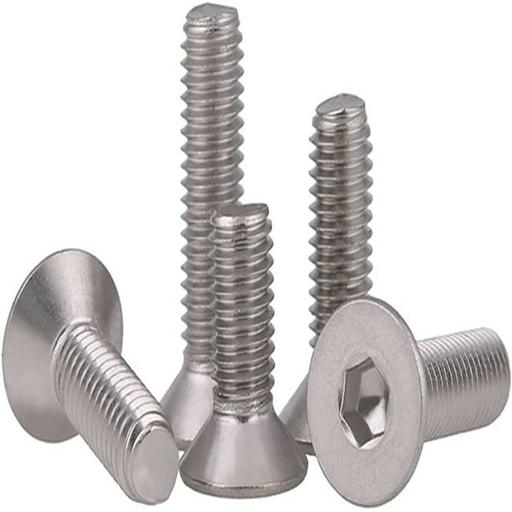Hex-Allen: (308, 299, 422, 505)
